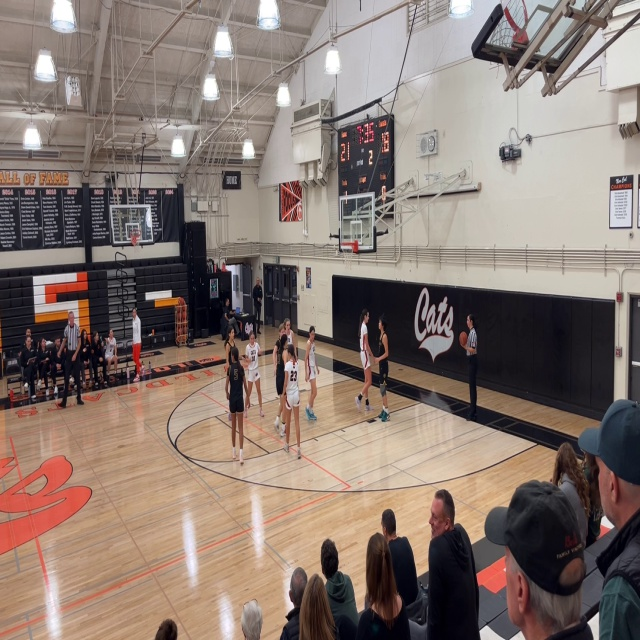Basketball: (459, 332, 467, 347)
